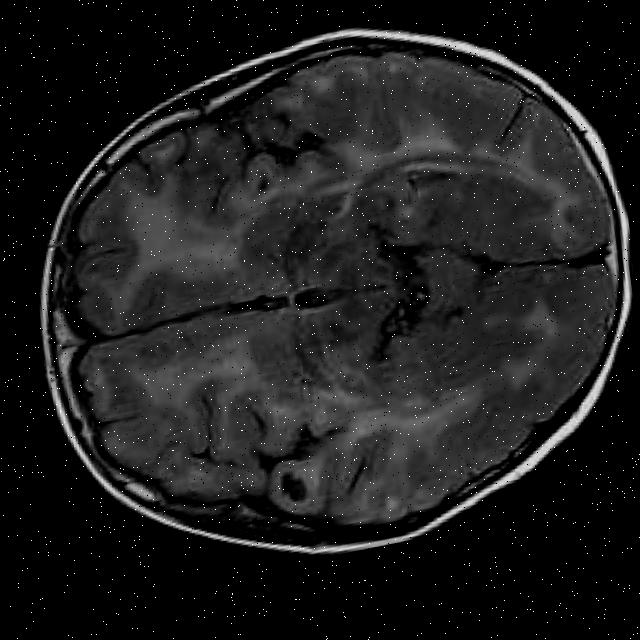NoTumor: (0, 0, 640, 610)
